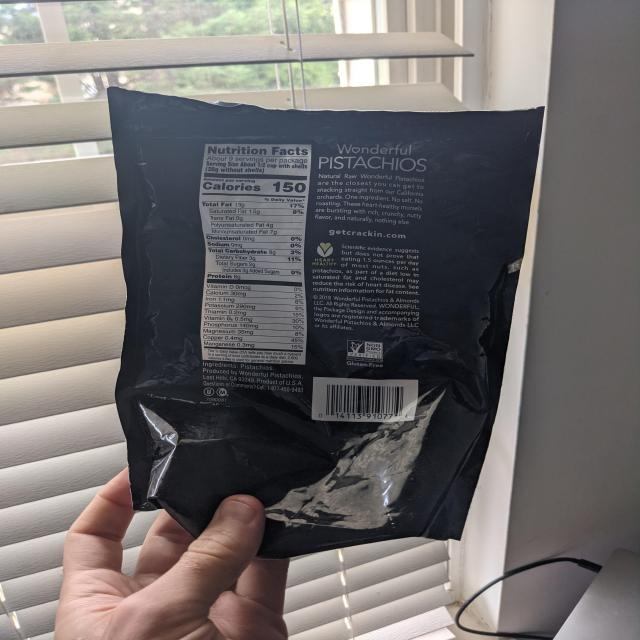litter: (109, 87, 546, 564)
